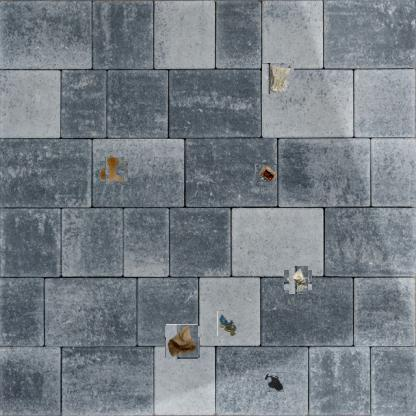dirty: (166, 325, 199, 359), (262, 62, 294, 94), (286, 268, 310, 292), (217, 310, 238, 336), (255, 164, 277, 182)
liquid: (102, 160, 127, 184), (262, 372, 284, 392)
